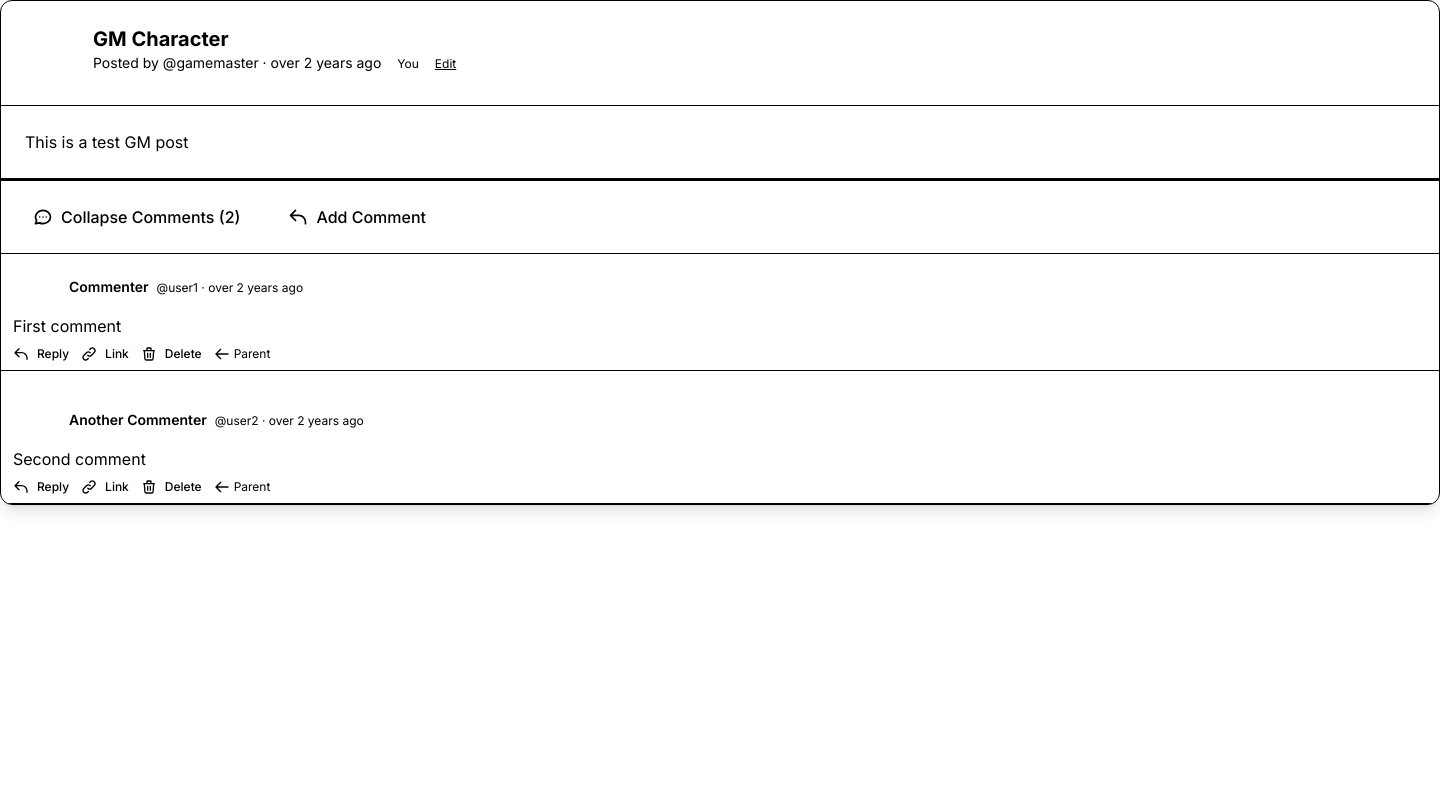
Scenario: PostCard › Comment Form - Submission › closes comment form after successful submission
The width and height of the screenshot is (1440, 805).
Click the button "Add Comment": {"x": 357, "y": 217} [272,197,442,237]
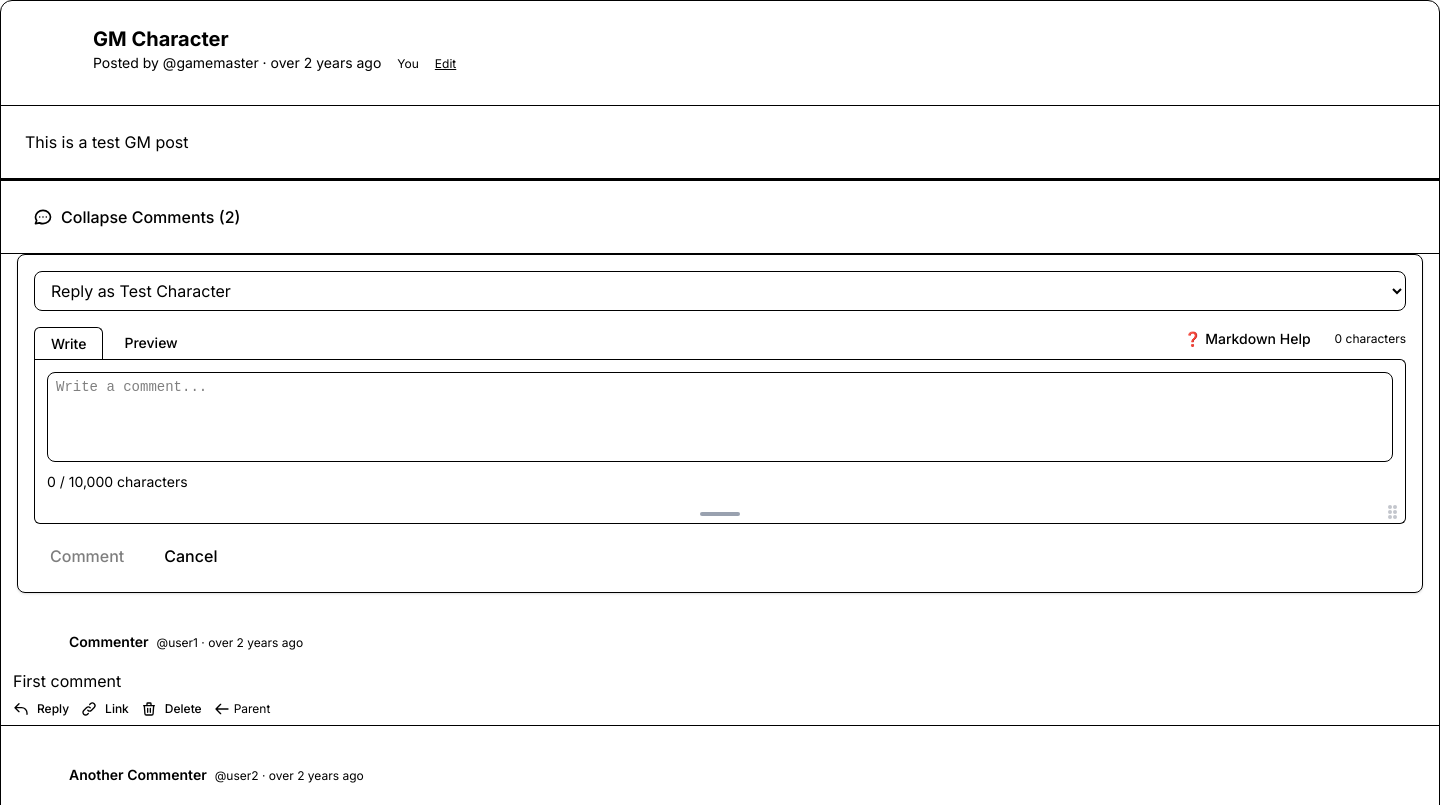
In the text box with placeholder "Write a comment...": {"x": 720, "y": 417} [47,372,1393,462], type "Test"
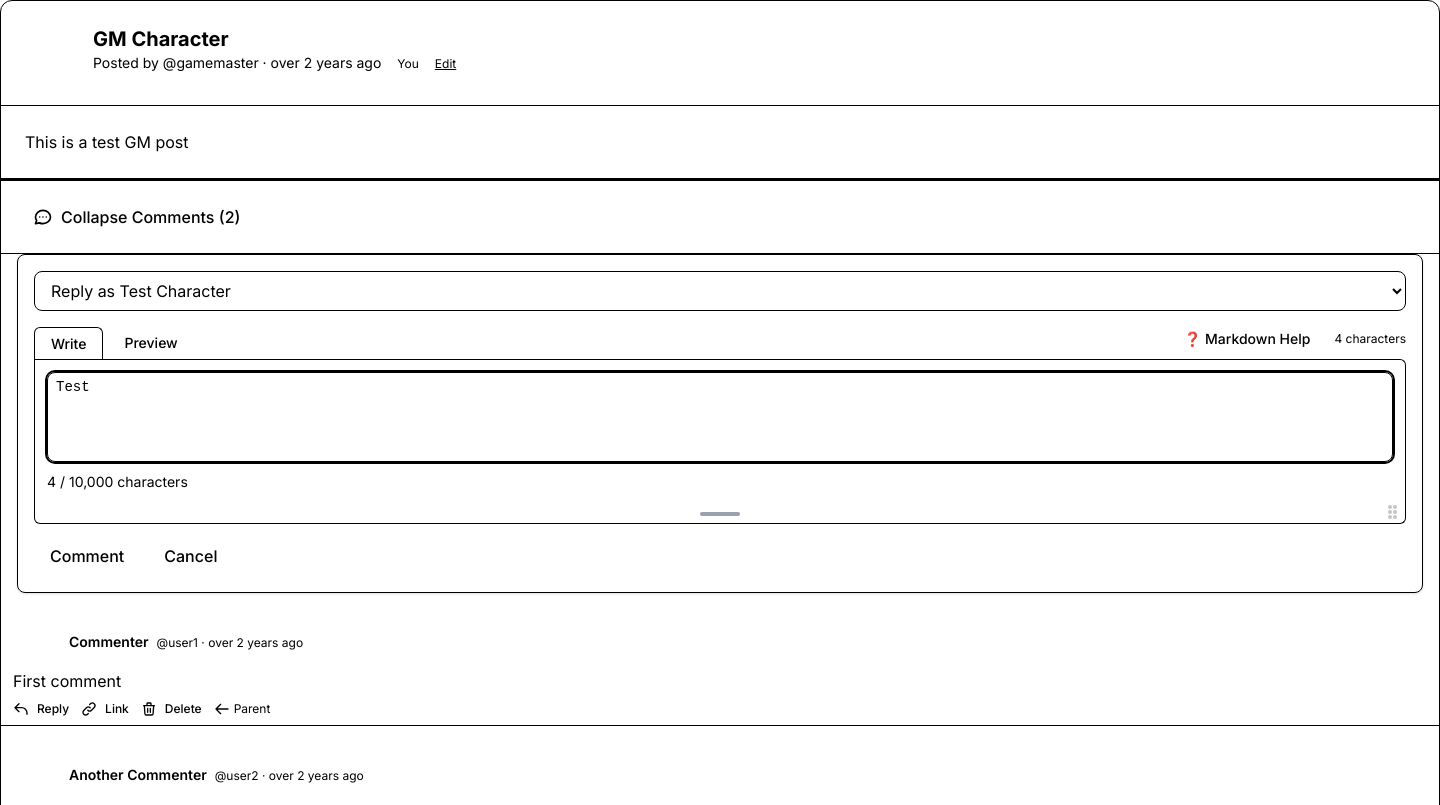
Click the button "Comment": {"x": 87, "y": 556} [34,536,140,576]
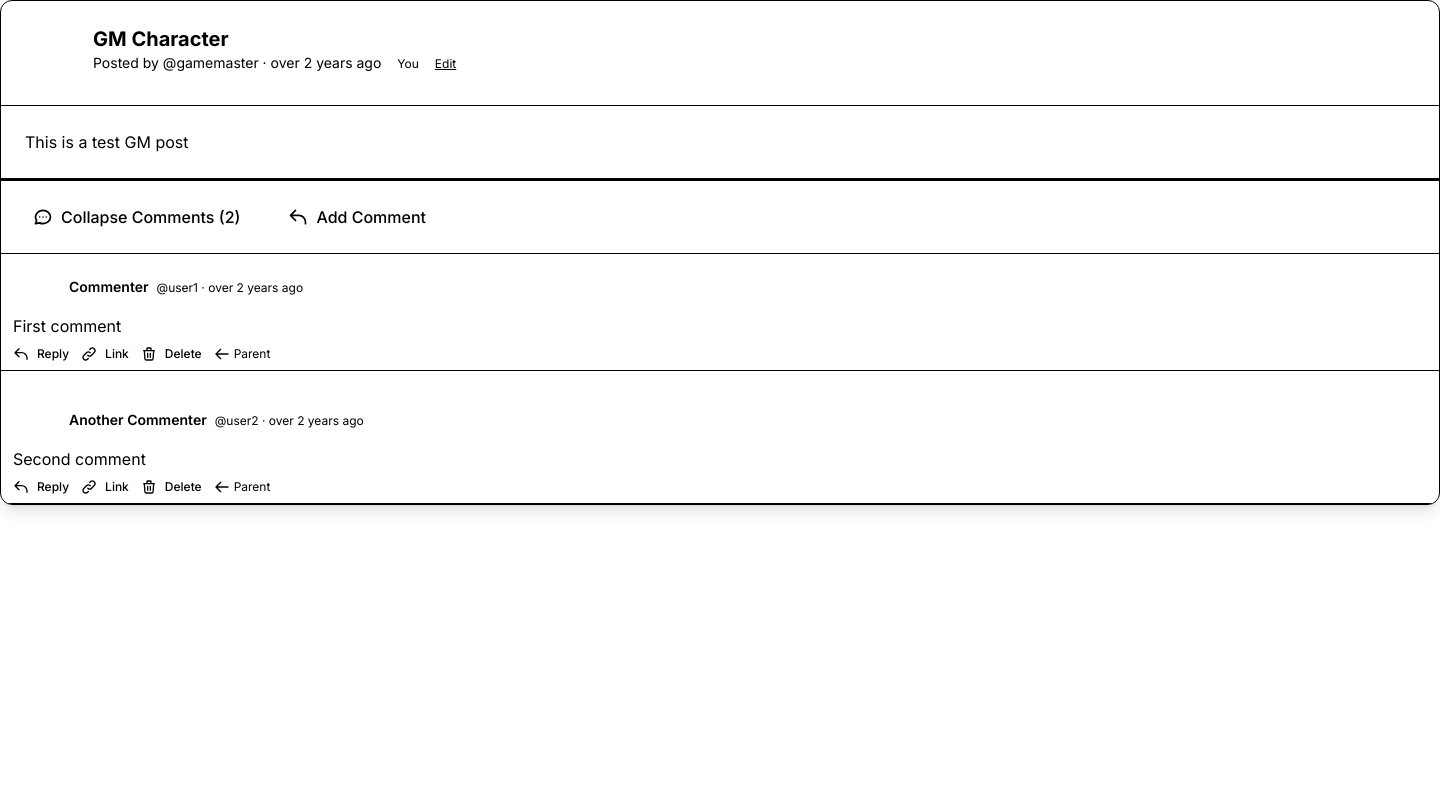
Expected: the field with placeholder "write a comment" is not shown
Now the button "Add Comment" is shown, box [272,197,442,237]
